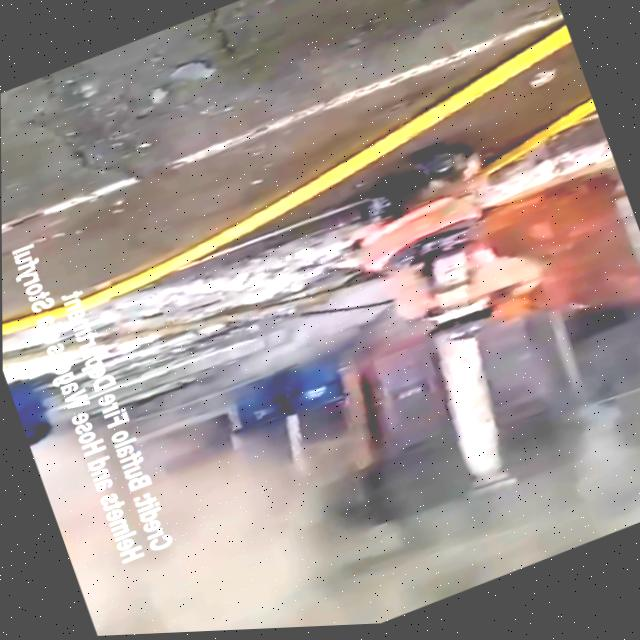Smoke: (75, 355, 640, 637)
